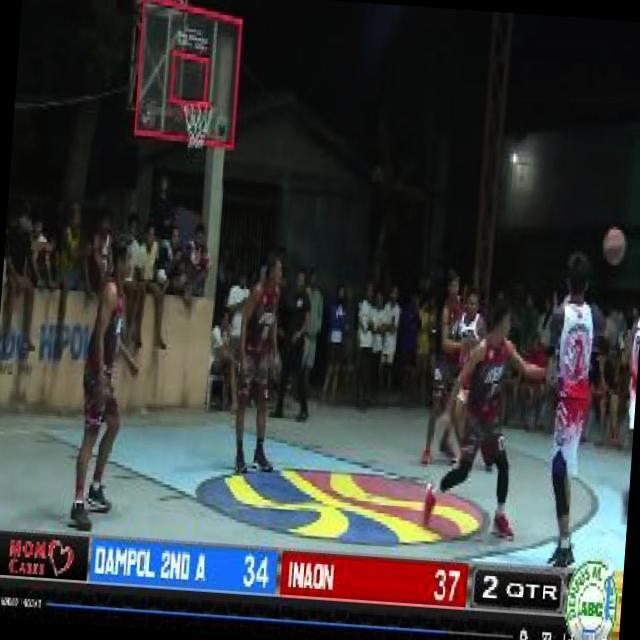ball: (596, 222, 630, 276)
hoop: (178, 97, 219, 110)
